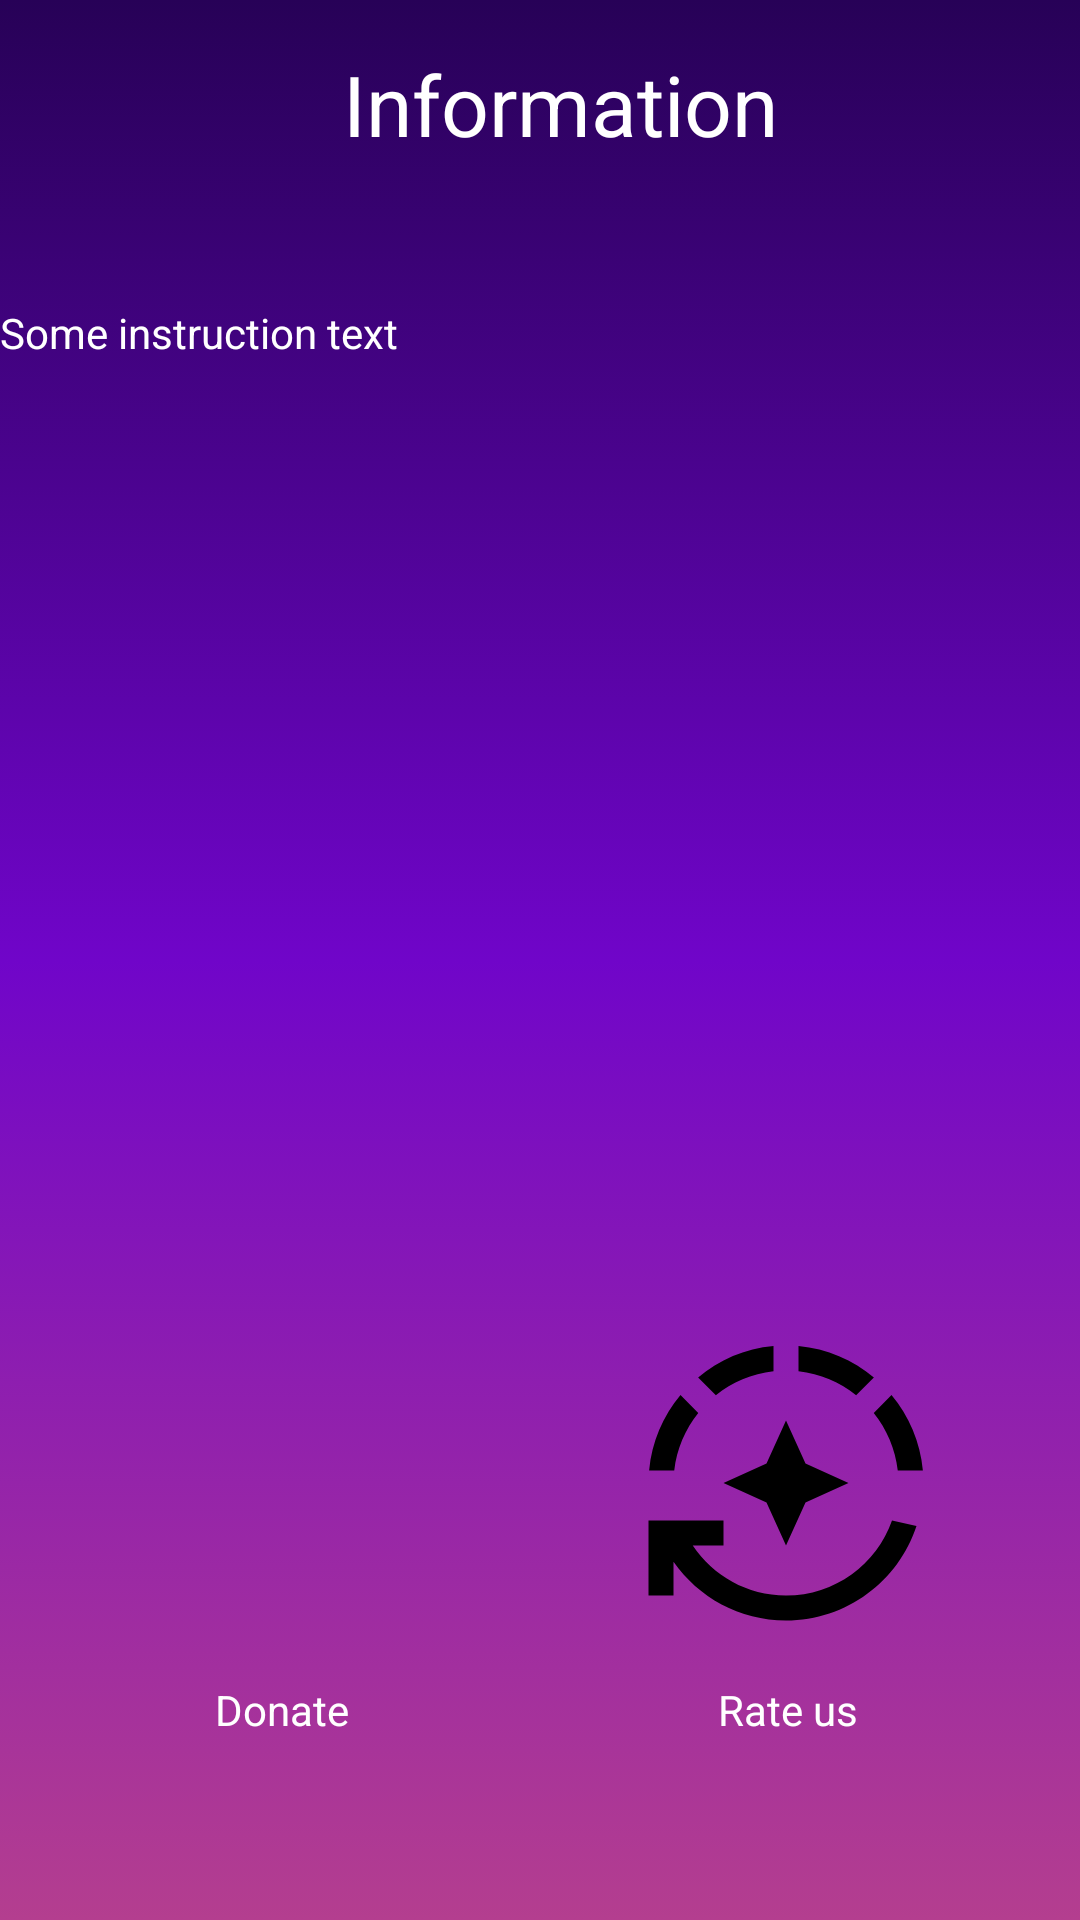

Named icons in this screenshot (1080w x 1920h) and their bounding boxes, (x1,y1,x2,y2):
auto mode: (636,1346,936,1633)
